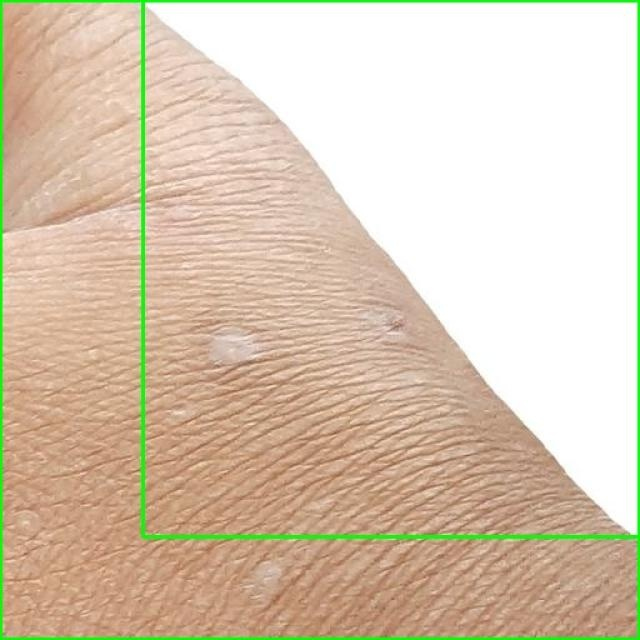Scabies: (0, 0, 639, 639), (142, 0, 639, 536)
